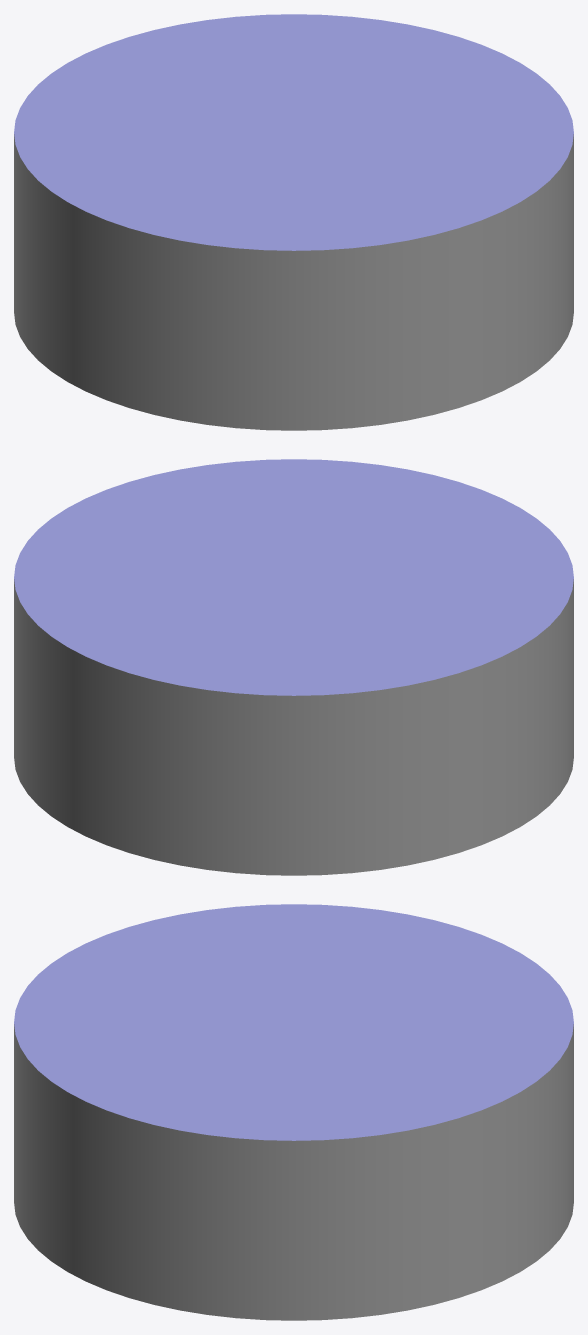
Rendered from ocean_sample_B.fbx.
3 views of the same model, one above another, from view 1: azimuth 30°, elevation 25°; view 2: azimuth 150°, elevation 25°; view 3: azimuth 270°, elevation 25° (orthographic).
Visible parts, largest first — view 1: ocean_sample_B; view 2: ocean_sample_B; view 3: ocean_sample_B.
Boxes of the visible parts, box(x1,y1,x2,y2) form: ocean_sample_B: box(14, 14, 573, 430); ocean_sample_B: box(14, 459, 573, 875); ocean_sample_B: box(14, 904, 573, 1320).
Bounding box in the file's own units: 5489 × 1946 × 5489.
